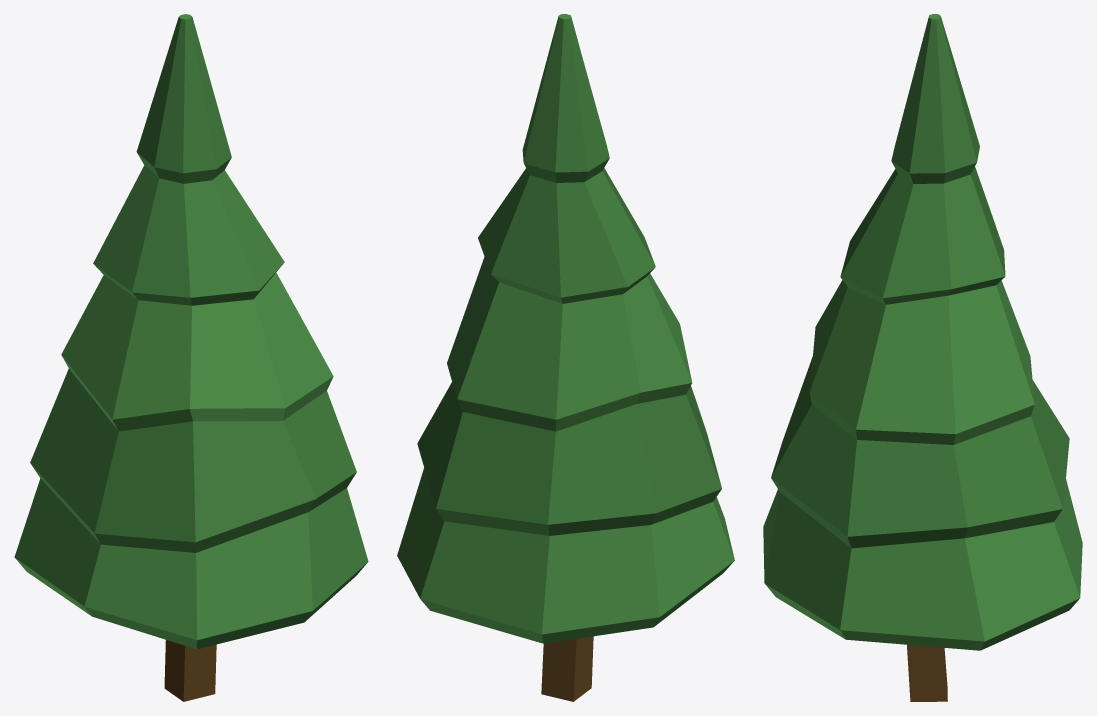
File: tree_pine_big_2.fbx
3 views of the same model, side by side, from view 1: azimuth 30°, elevation 25°; view 2: azimuth 150°, elevation 25°; view 3: azimuth 270°, elevation 25° (orthographic).
Parts seen in each view (by area): view 1: pCube292; view 2: pCube292; view 3: pCube292.
Part boxes in pixels (box(x1,y1,x2,y2)): pCube292: box(14, 14, 368, 701); pCube292: box(397, 14, 734, 701); pCube292: box(763, 14, 1082, 701).
Bounding box in the file's own units: 4.46 × 10.35 × 4.43.
